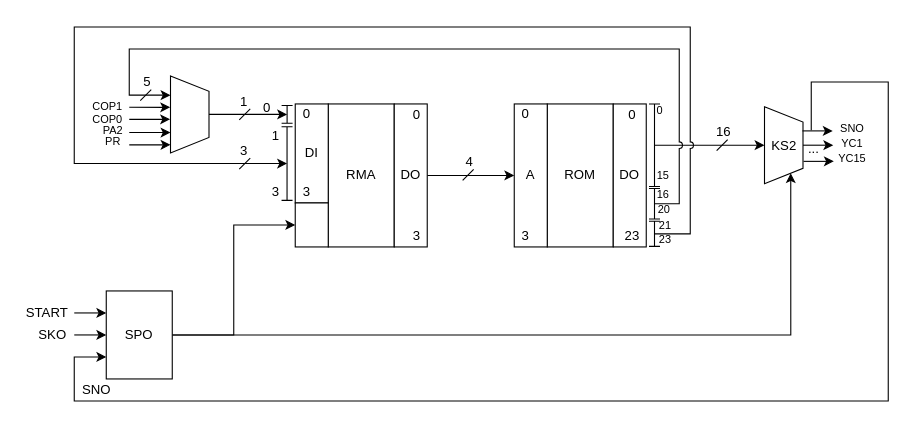
This 916x429 diagram has some shape labels left out. The shapes that lost their labels are listed below. From the top down, each one's centre as x and y in pixels, then its label:
At (x=189, y=114): "KS1".
At (x=311, y=224): "CE".
